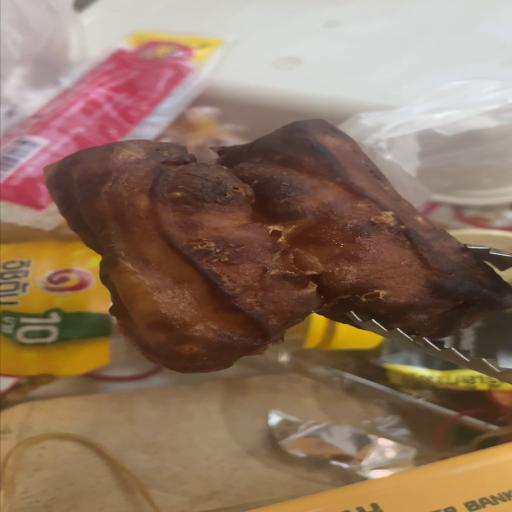street_burnt_defect: (45, 121, 512, 372)
